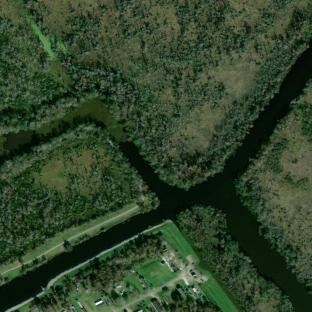Floresta: (74, 56, 298, 184), (0, 140, 134, 266), (177, 205, 296, 312), (0, 1, 79, 133), (30, 233, 161, 312), (166, 291, 220, 312)
